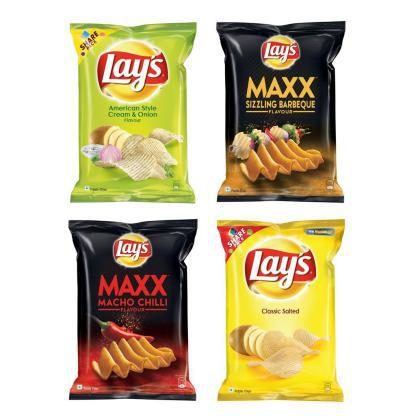classicsalted: (216, 220, 345, 402)
cream_and_onion: (69, 24, 194, 203)
max_chili: (68, 220, 195, 397)
maxx_sizzling_barbeque: (218, 21, 345, 198)
